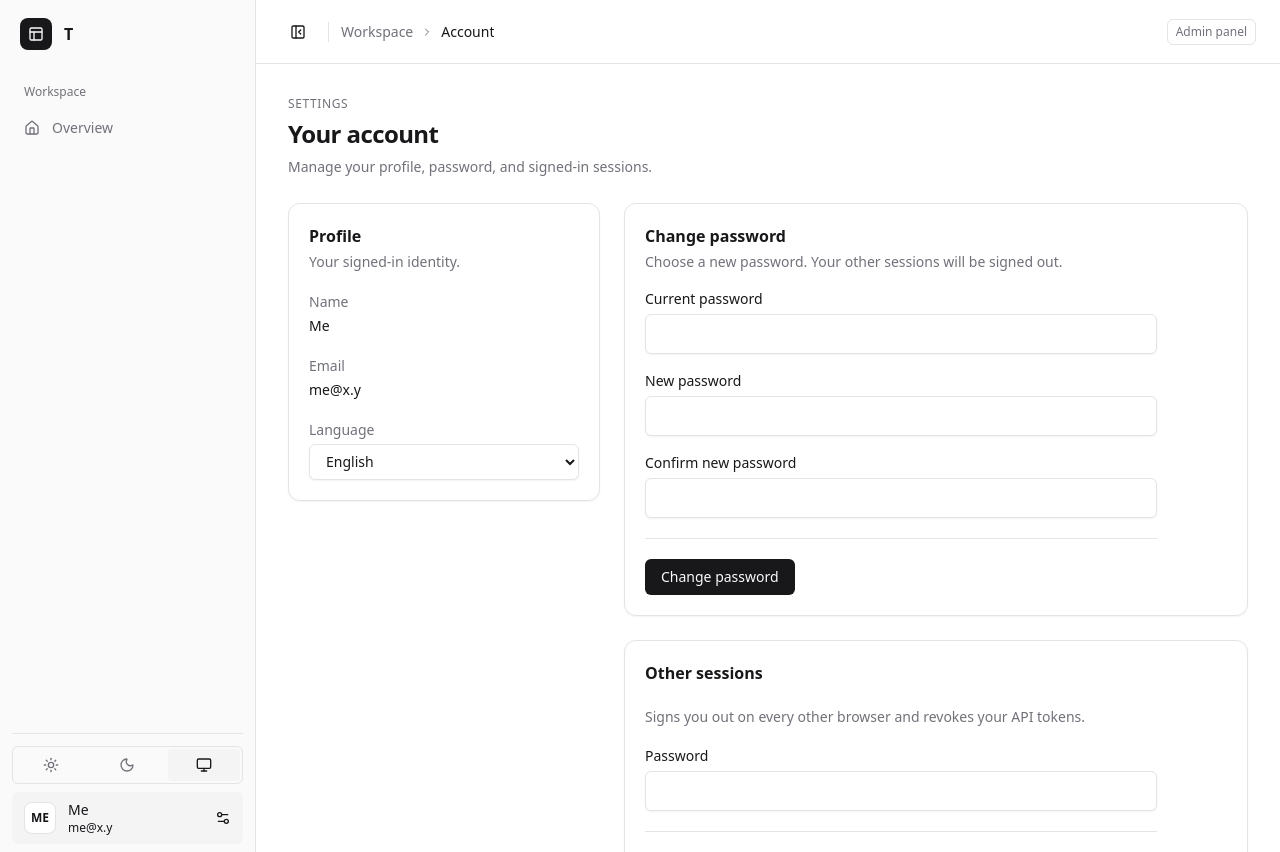
connects password validation errors to their matching input
This screenshot has width=1280, height=852.
In the password field labelled "New password": [901, 416] box x1=645 y1=396 x2=1157 y2=436, type "short"
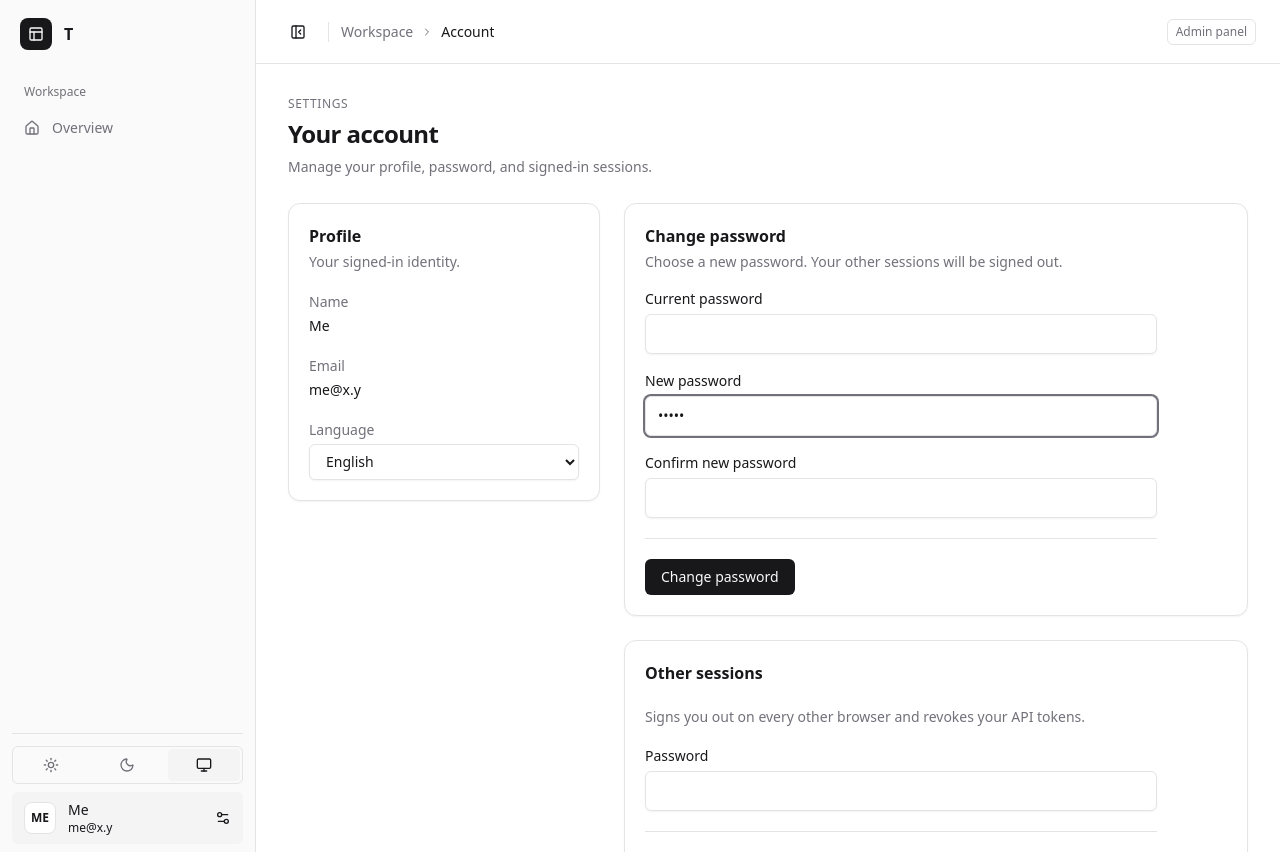
Click the button "Change password": [720, 577] box x1=645 y1=559 x2=795 y2=595
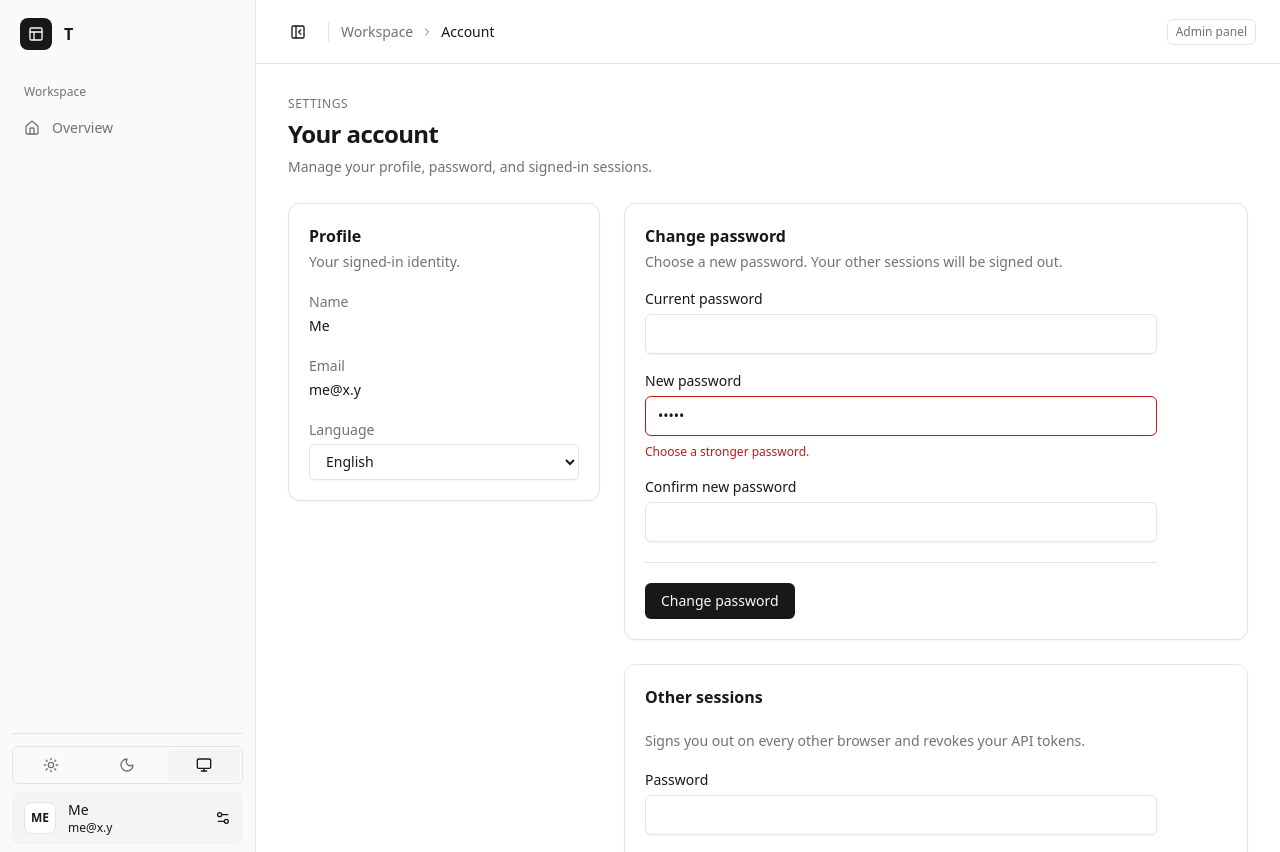
Check: the text "Choose a stronger password." is shown, box x1=645 y1=443 x2=809 y2=460
